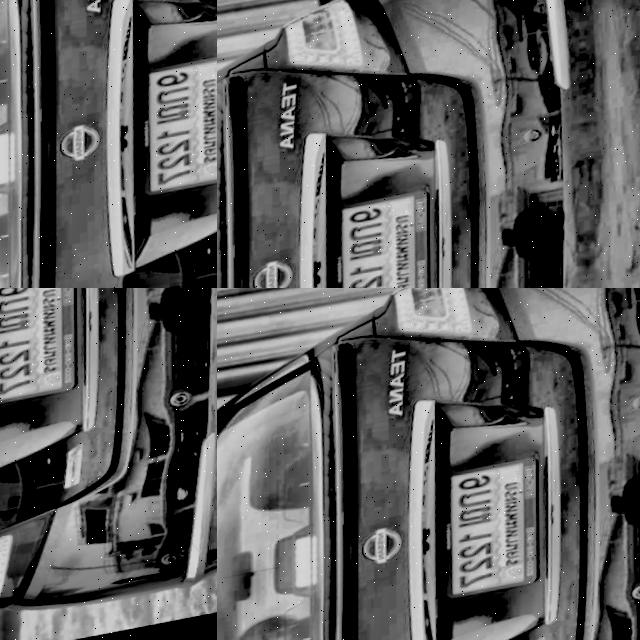license-plate: (438, 458, 561, 606)
